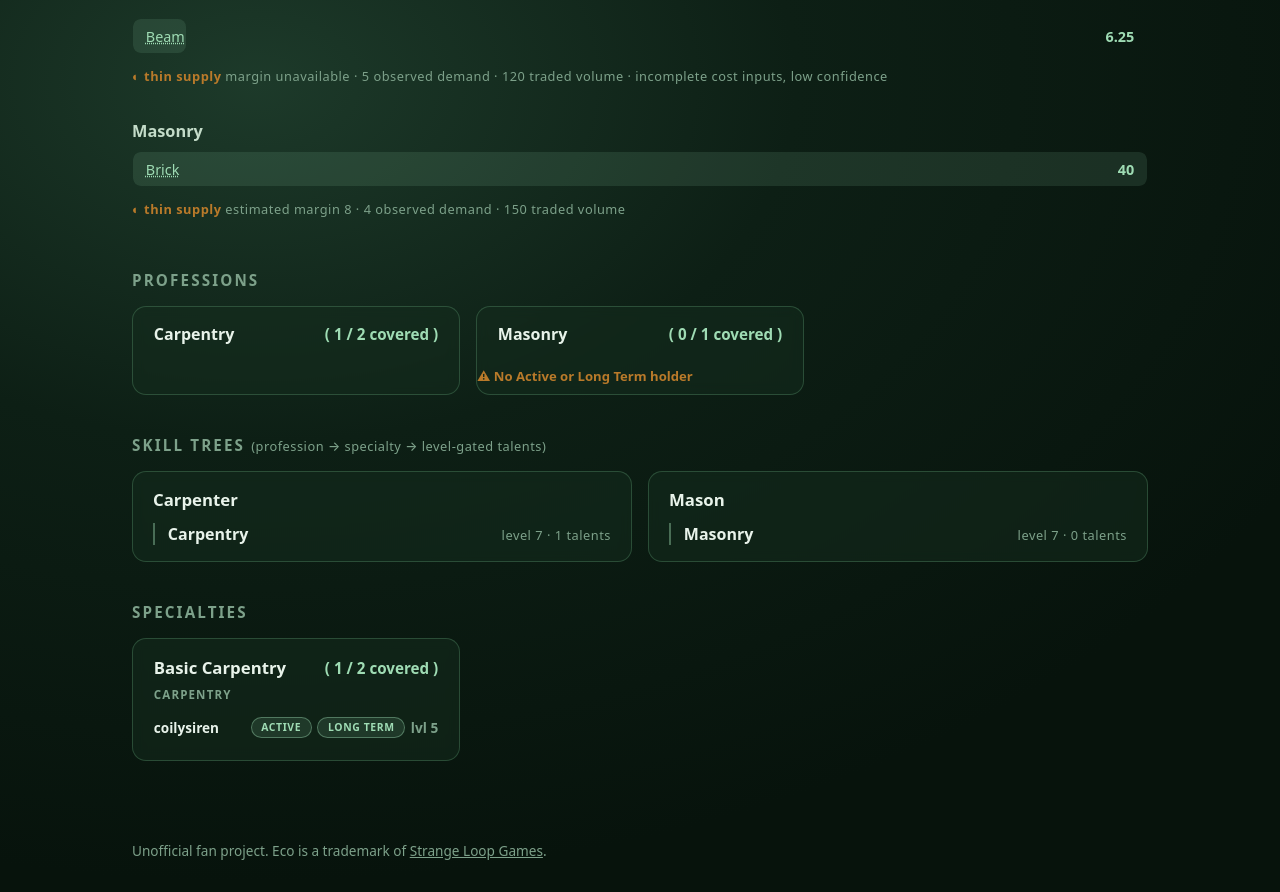
Test case: Jobs › renders profession, specialty, and level-gated talent branches
This screenshot has width=1280, height=892.
(page scrolled)
Expected: the element with test id "jobs-skill-trees" is shown, [132,435,1148,562]
Click the heading "Carpentry level 7 · 1 talents": (208,534) [168,523,611,545]
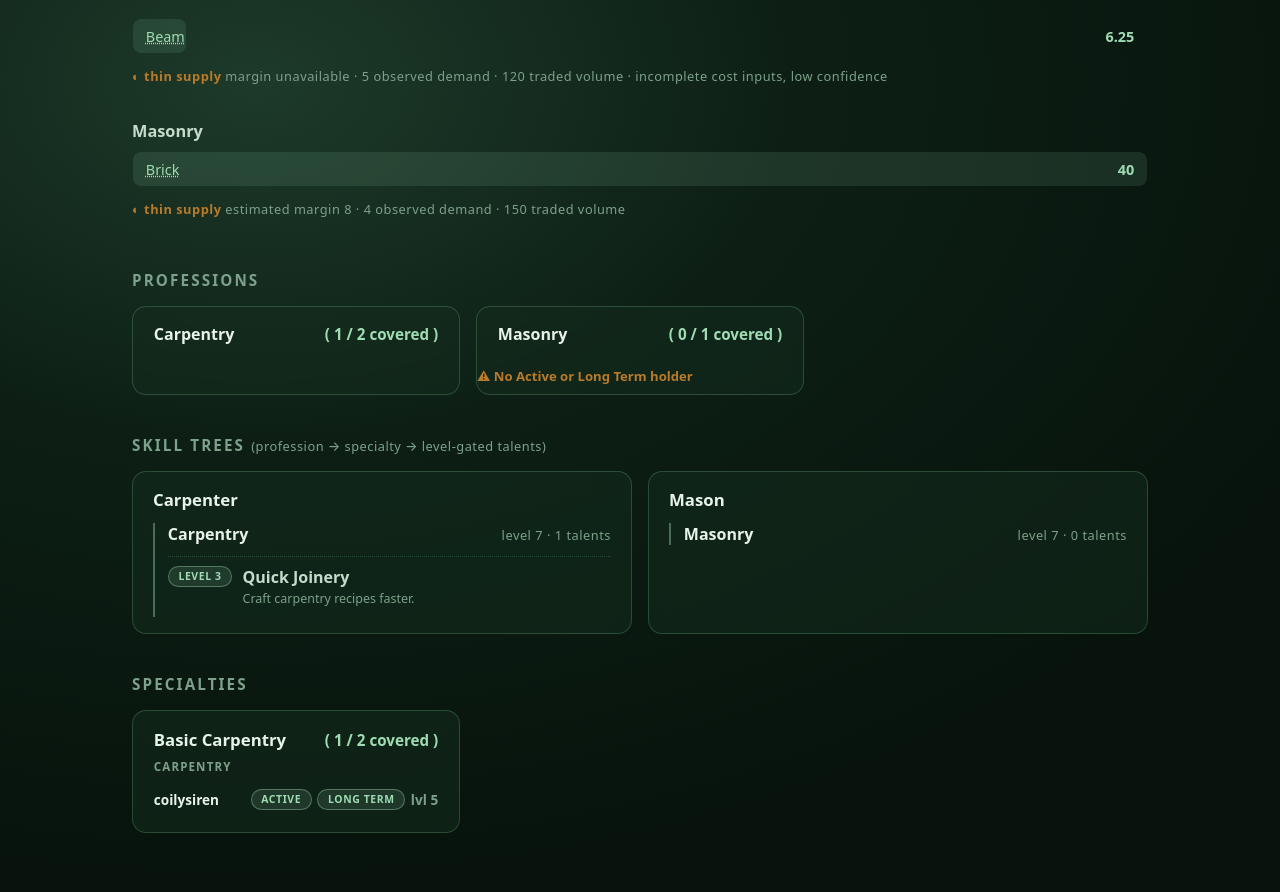
Expected: the text "Quick Joinery" is shown, [242,566,349,588]
Expected: the text "Craft carpentry recipes faster." is shown, [242,590,414,607]
Expected: the text "level 3" is shown, [168,566,232,587]
